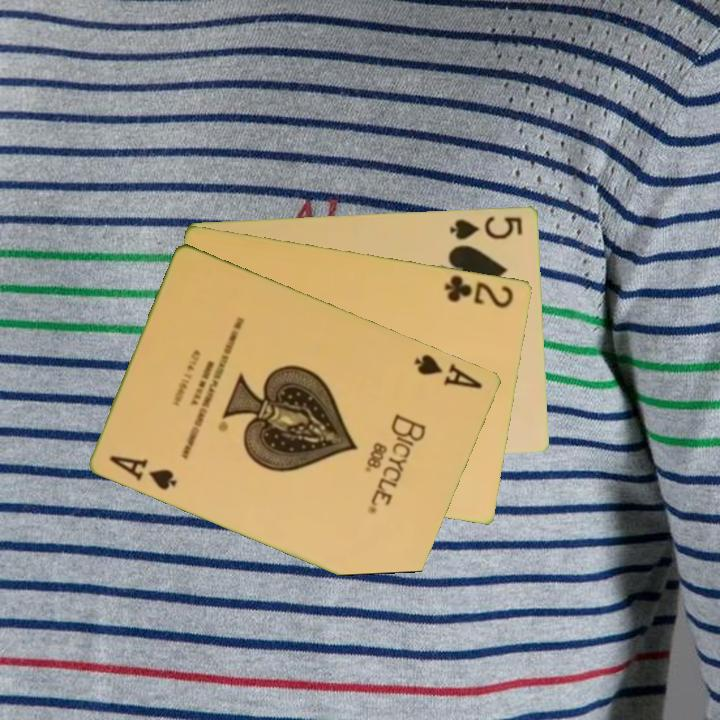2c: (441, 271, 517, 311)
5s: (446, 212, 525, 242)
As: (411, 350, 486, 392), (106, 451, 181, 493)
